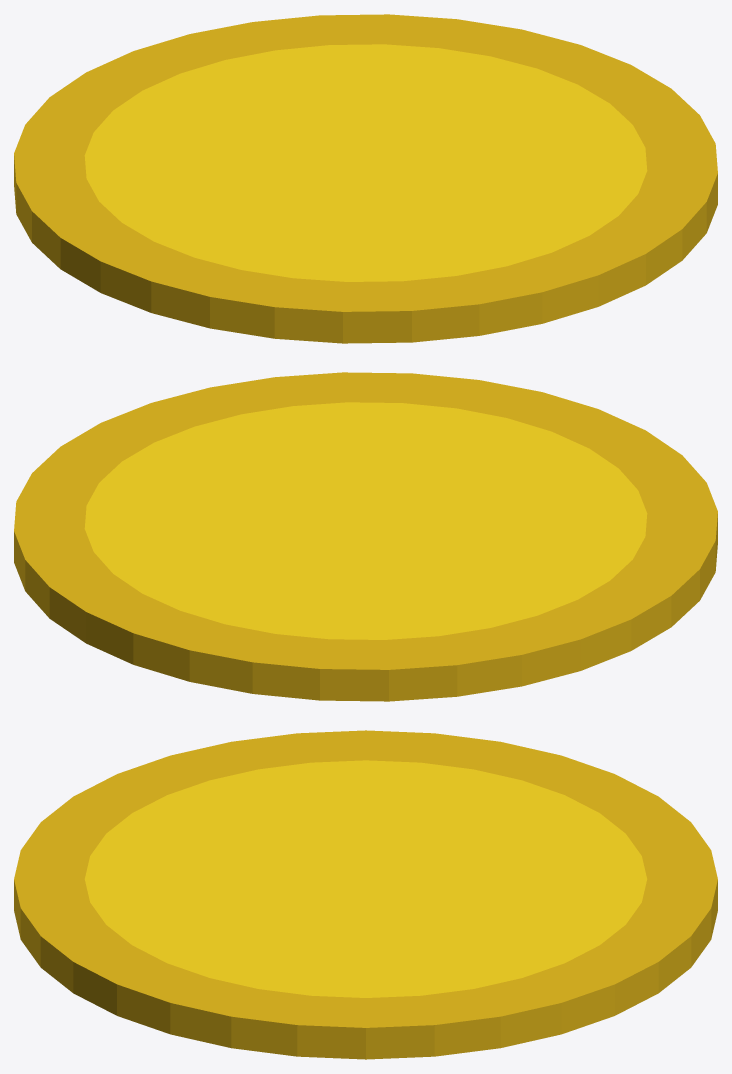
File: Coin.fbx
3 renders of one model, top to bottom at view 1: azimuth 30°, elevation 25°; view 2: azimuth 150°, elevation 25°; view 3: azimuth 270°, elevation 25°, orthographic.
Parts seen in each view (by area): view 1: Cylinder; view 2: Cylinder; view 3: Cylinder.
Part boxes in pixels (x1,y1,x2,y2): Cylinder: [14, 14, 717, 343]; Cylinder: [14, 372, 717, 701]; Cylinder: [14, 730, 717, 1059].
Bounding box in the file's own units: 60 × 2.97 × 60.
